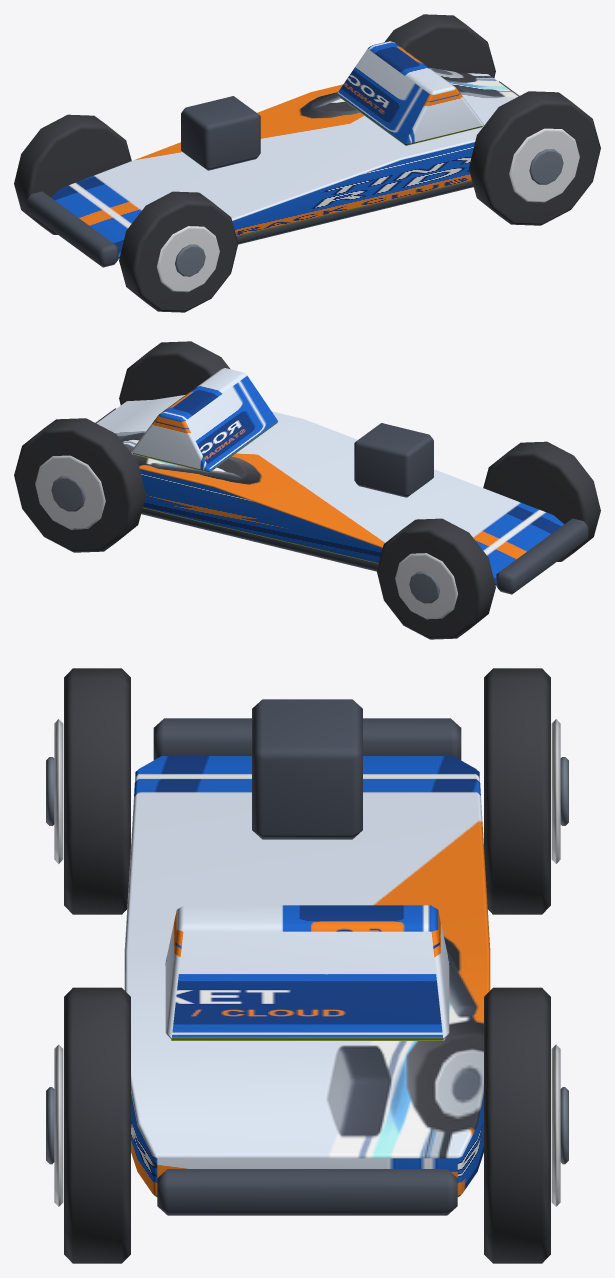
3 views of the same model, one above another, from view 1: azimuth 30°, elevation 25°; view 2: azimuth 150°, elevation 25°; view 3: azimuth 270°, elevation 25° (orthographic). The views are drawn at different scales.
Parts seen in each view (by area): view 1: TC-04_connected_shell, Tire.002, TC-04_cabin, Tire, Tire.001, engine scoop, Tire.003, Rim.002, front bumper, Rim, underbody, Hub.002 (+1 smaller); view 2: TC-04_connected_shell, Tire.003, TC-04_cabin, Tire.001, Tire, engine scoop, Tire.002, Rim.003, front bumper, Rim.001, underbody, Hub.003 (+1 smaller); view 3: TC-04_connected_shell, TC-04_cabin, Tire.002, Tire.003, Tire, Tire.001, engine scoop, rear bumper, front bumper, Rim.002, Rim.003, Rim (+1 smaller).
Part boxes in pixels (x1,y1,x2,y2): TC-04_connected_shell: [51, 68, 518, 258]; Tire.002: [468, 91, 600, 225]; TC-04_cabin: [337, 41, 483, 145]; Tire: [119, 191, 238, 312]; Tire.001: [14, 114, 131, 234]; engine scoop: [181, 96, 260, 170]; Tire.003: [384, 14, 495, 78]; Rim.002: [509, 128, 579, 202]; front bumper: [26, 191, 118, 267]; Rim: [157, 226, 219, 292]; underbody: [236, 181, 473, 244]; Hub.002: [529, 149, 563, 184]; TC-04_connected_shell: [96, 395, 563, 585]; Tire.003: [14, 418, 146, 552]; TC-04_cabin: [131, 368, 277, 472]; Tire.001: [376, 518, 495, 639]; Tire: [483, 441, 600, 561]; engine scoop: [354, 423, 433, 497]; Tire.002: [119, 341, 230, 405]; Rim.003: [35, 455, 105, 529]; front bumper: [496, 518, 588, 594]; Rim.001: [395, 553, 457, 619]; underbody: [141, 508, 378, 571]; Hub.003: [51, 476, 85, 511]; TC-04_connected_shell: [124, 755, 490, 1197]; TC-04_cabin: [165, 905, 449, 1040]; Tire.002: [64, 987, 130, 1263]; Tire.003: [484, 987, 550, 1263]; Tire: [64, 668, 130, 914]; Tire.001: [484, 668, 550, 914]; engine scoop: [252, 699, 362, 839]; rear bumper: [157, 1169, 457, 1215]; front bumper: [153, 718, 461, 760]; Rim.002: [54, 1044, 63, 1206]; Rim.003: [551, 1044, 560, 1206]; Rim: [54, 719, 63, 863].
Size of the model in its own units: 430 by 117 by 203.
